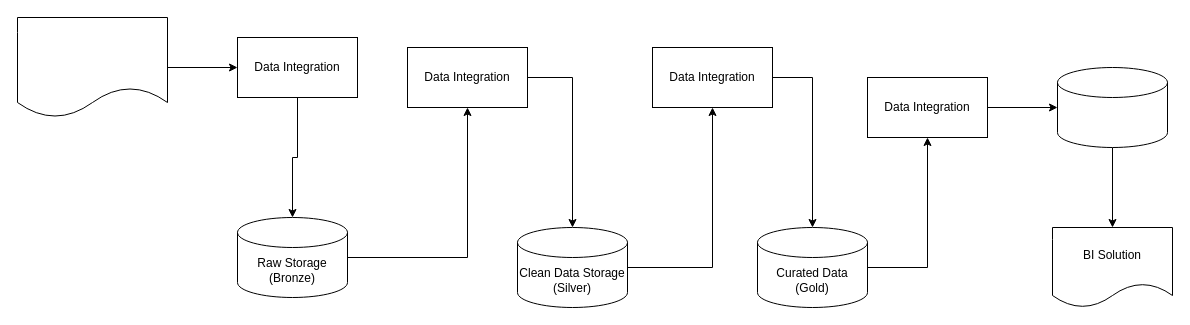
Some shapes in this 1190 by 325 pixel diagram are drawn without their labels. The centre of each missing label's shape, as x and y in pixels:
Data Warehouse: [1112,107]
Source (AviationStack API): [92,67]
